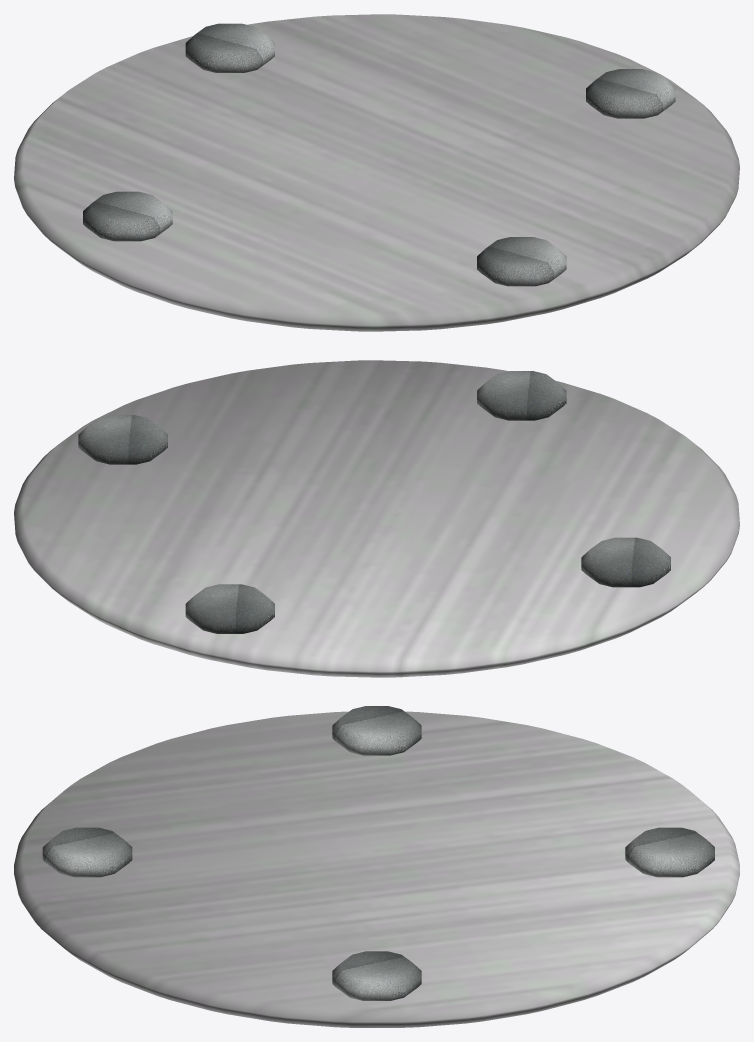
The model's file is 固定してる金属.fbx.
3 renders of one model, top to bottom at view 1: azimuth 30°, elevation 25°; view 2: azimuth 150°, elevation 25°; view 3: azimuth 270°, elevation 25°, orthographic.
Visible parts, largest first — view 1: obj1, obj3, obj4, obj5, obj6; view 2: obj1, obj3, obj5, obj4, obj6; view 3: obj1, obj4, obj6, obj3, obj5.
Boxes of the visible parts, x1,y1,x2,y2 form: obj1: [14, 14, 739, 331]; obj3: [83, 191, 172, 241]; obj4: [477, 237, 566, 286]; obj5: [586, 69, 675, 118]; obj6: [185, 23, 274, 72]; obj1: [14, 360, 739, 677]; obj3: [581, 537, 670, 587]; obj5: [78, 415, 167, 464]; obj4: [477, 371, 566, 420]; obj6: [185, 584, 274, 633]; obj1: [14, 711, 739, 1027]; obj4: [42, 827, 132, 877]; obj6: [625, 827, 714, 877]; obj3: [332, 706, 421, 755]; obj5: [332, 951, 421, 1000].
Bounding box in the file's own units: 326 × 18.02 × 327.
Materials: 2 (2 with a texture image).
